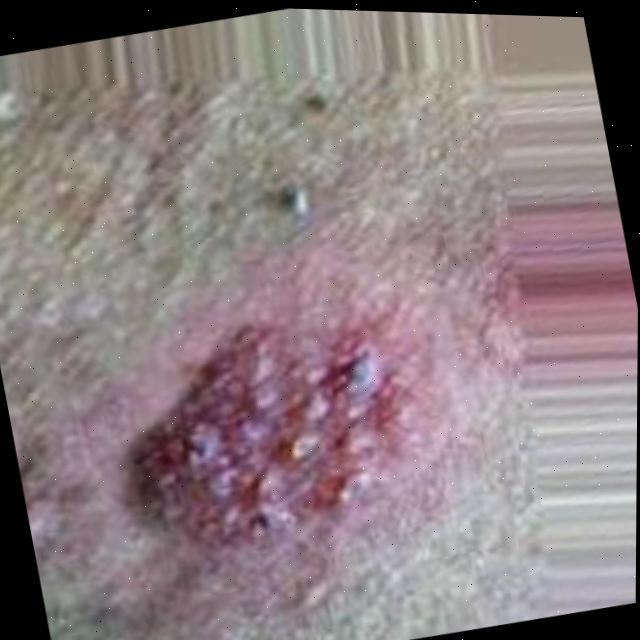Shingles: (117, 313, 409, 543)
